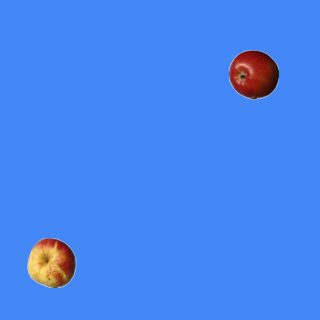Apple Braeburn: (228, 49, 278, 99)
Apple Red Yellow 1: (26, 237, 76, 287)
